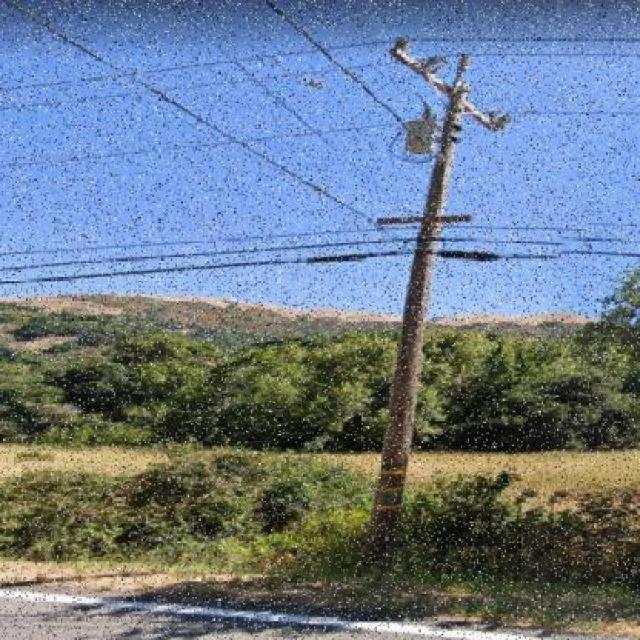pole: (273, 14, 541, 580)
